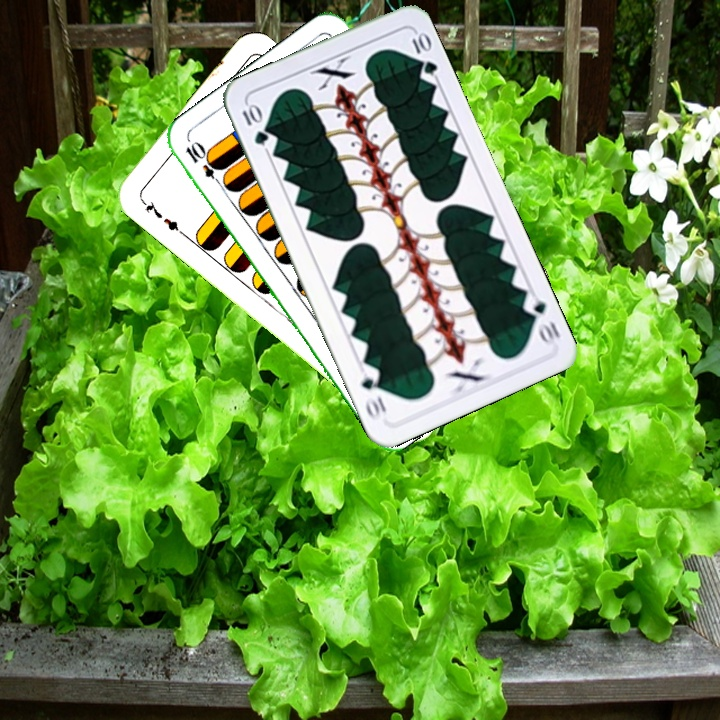E10: (181, 138, 227, 190)
E7: (137, 195, 187, 238)
G10: (519, 290, 563, 349), (238, 100, 271, 149)
